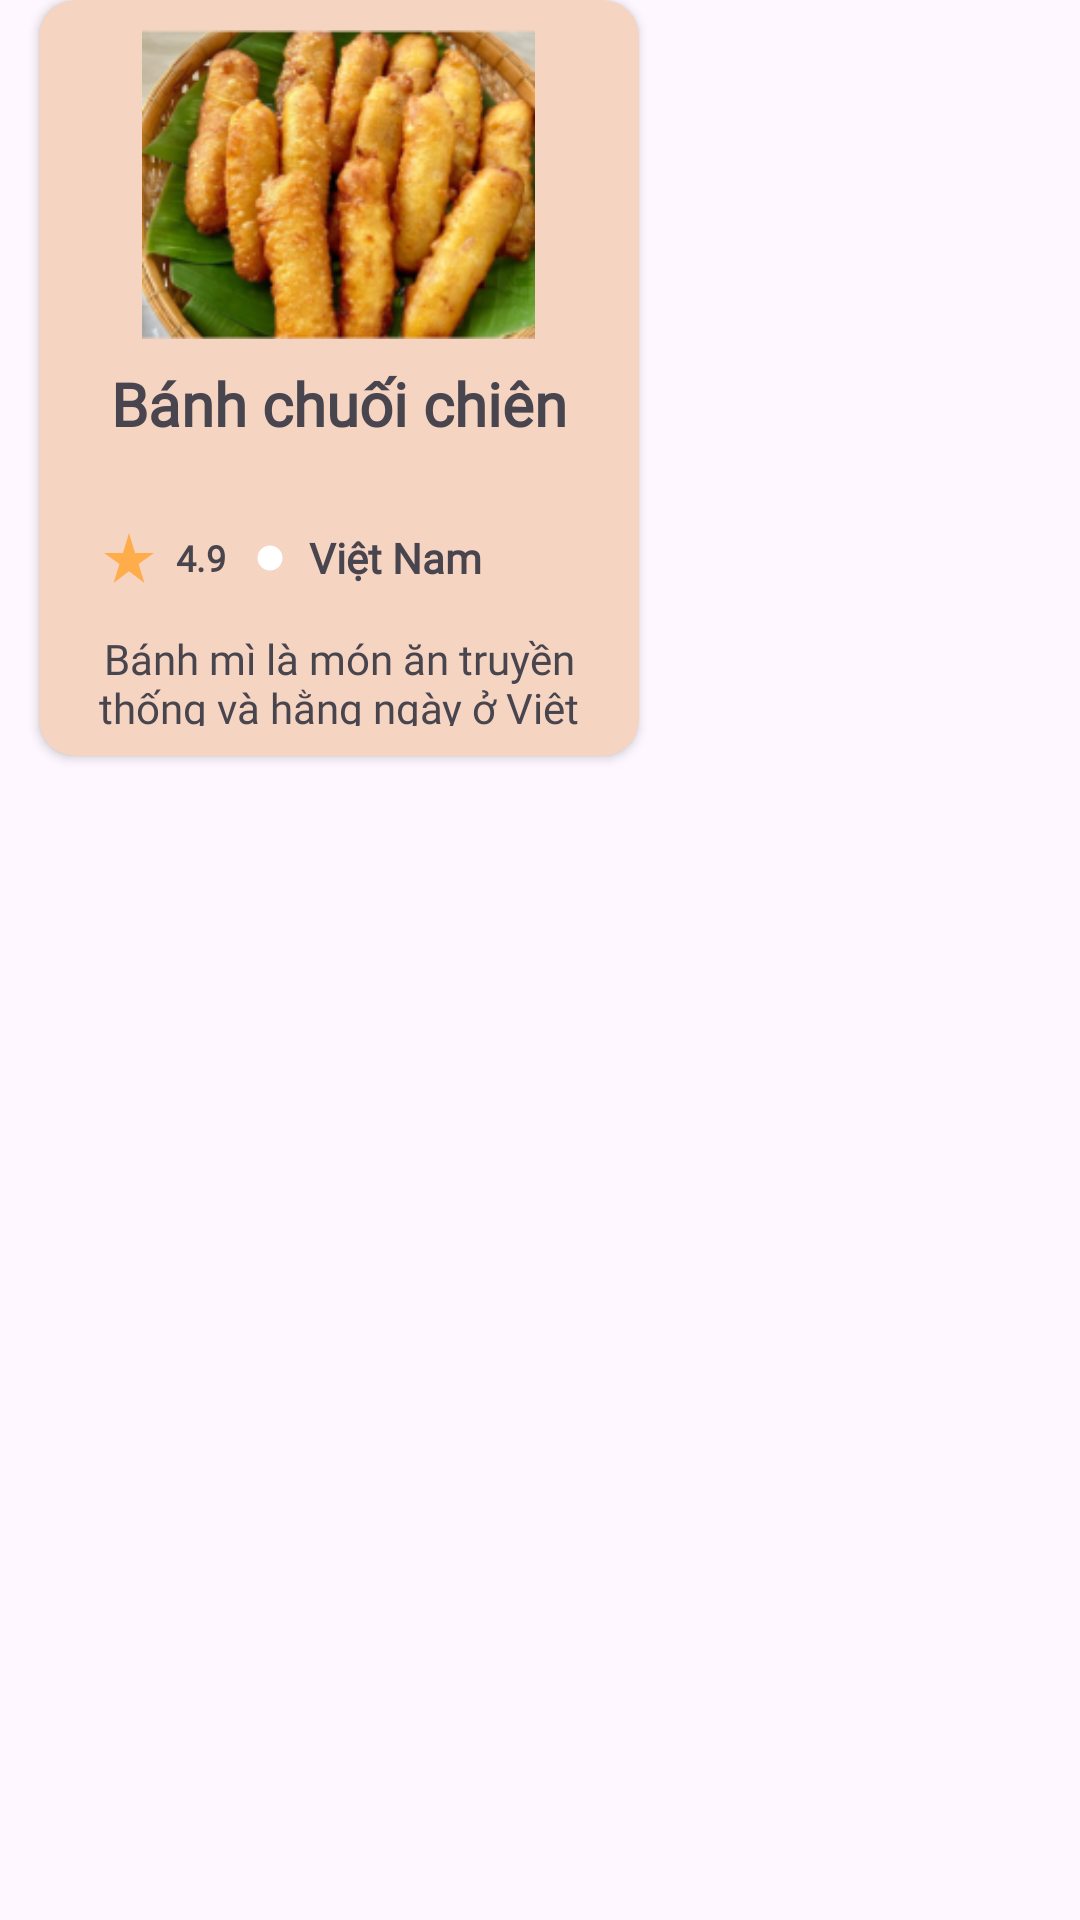

Icon click points for this 1080 x 1920 phone screenshot, format point (x, y):
star: point (129, 558)
